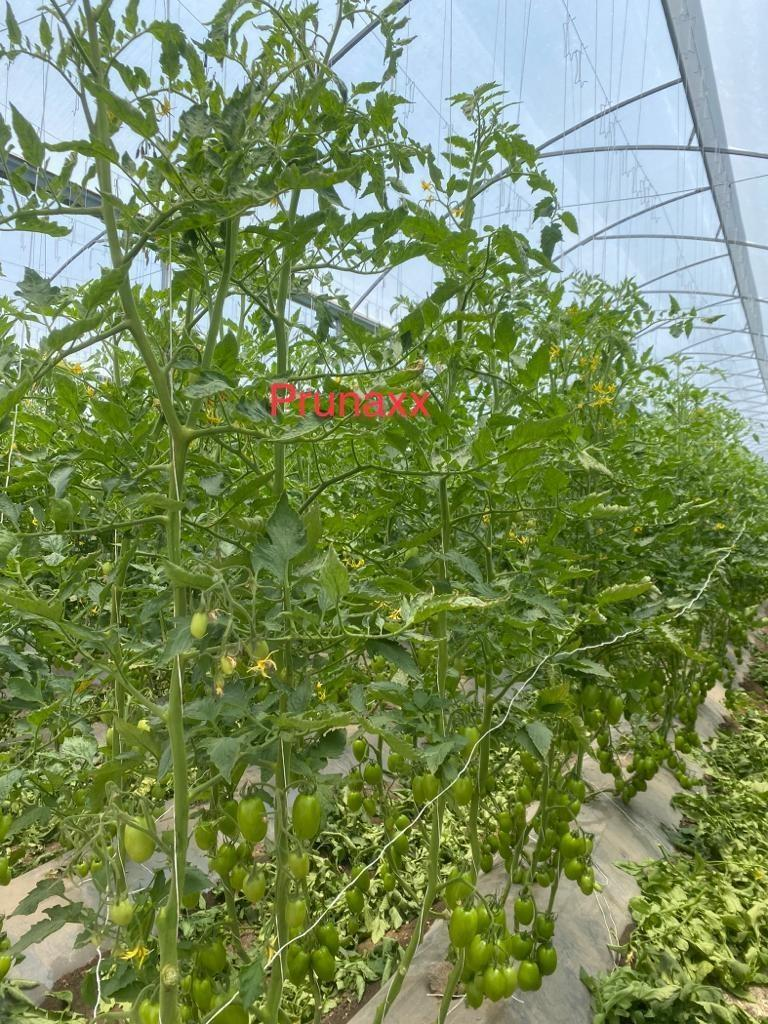Tomate: (236, 796, 268, 844), (450, 906, 478, 948), (518, 960, 542, 992), (514, 896, 534, 926)
Tomate Rugoso: (291, 793, 320, 840), (124, 824, 156, 862), (468, 934, 492, 972), (482, 966, 506, 1002)
